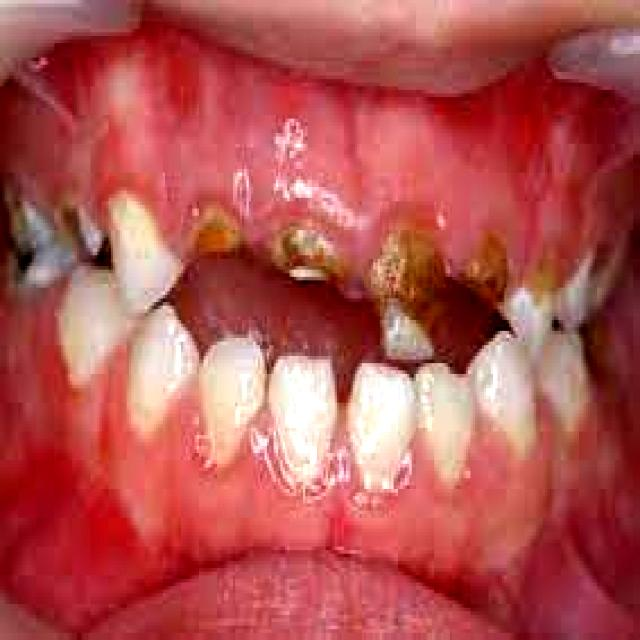cariess: (464, 237, 593, 338), (369, 230, 439, 360), (5, 198, 102, 266), (269, 227, 344, 280), (459, 234, 511, 306), (192, 209, 240, 252)
